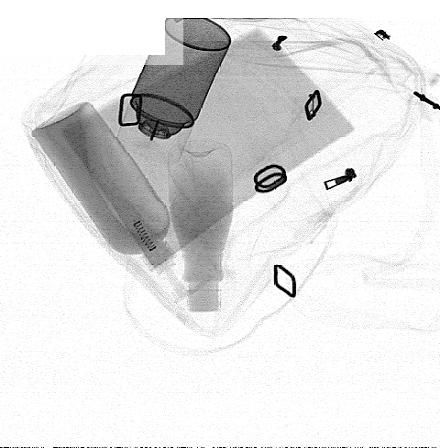Sprayer: (115, 10, 232, 165)
